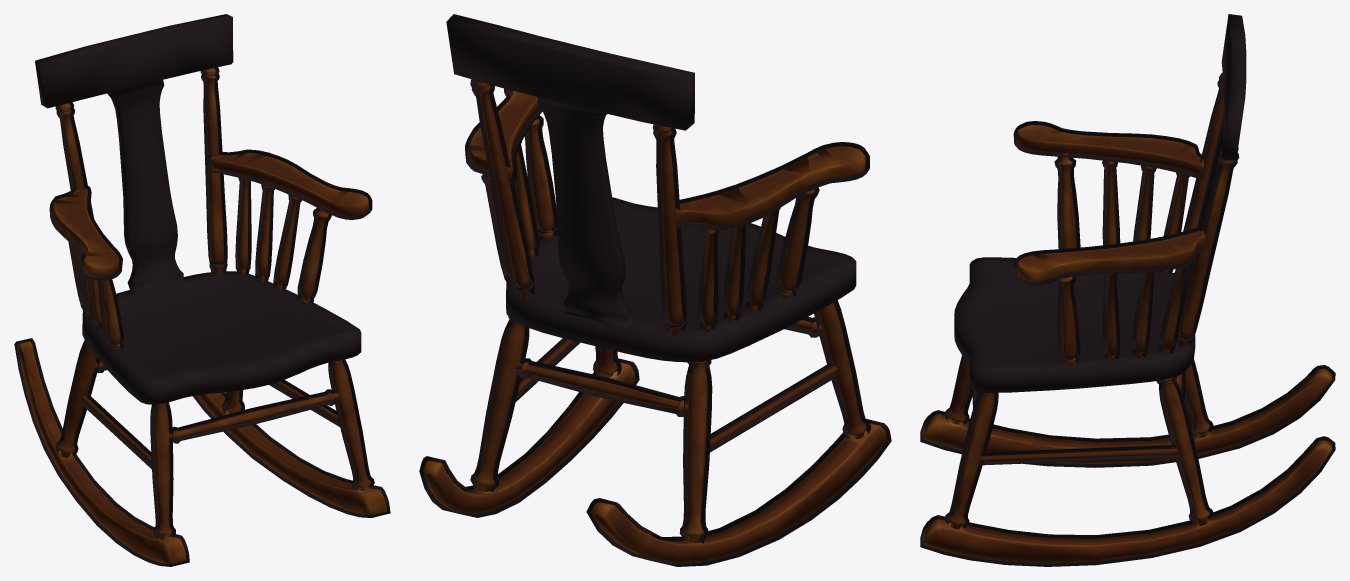
The model's file is SM_Int_RockingChair.fbx.
3 renders of one model, left to right at view 1: azimuth 30°, elevation 25°; view 2: azimuth 150°, elevation 25°; view 3: azimuth 270°, elevation 25°, orthographic. The views are drawn at different scales.
Parts seen in each view (by area): view 1: SM_Int_RockingChair; view 2: SM_Int_RockingChair; view 3: SM_Int_RockingChair.
Part boxes in pixels (box(x1,y1,x2,y2)): SM_Int_RockingChair: box(14, 14, 390, 566); SM_Int_RockingChair: box(419, 14, 891, 566); SM_Int_RockingChair: box(920, 14, 1335, 566).
Size of what is drawn, in the model's own units: 0.7274 by 1.01 by 0.8509.
